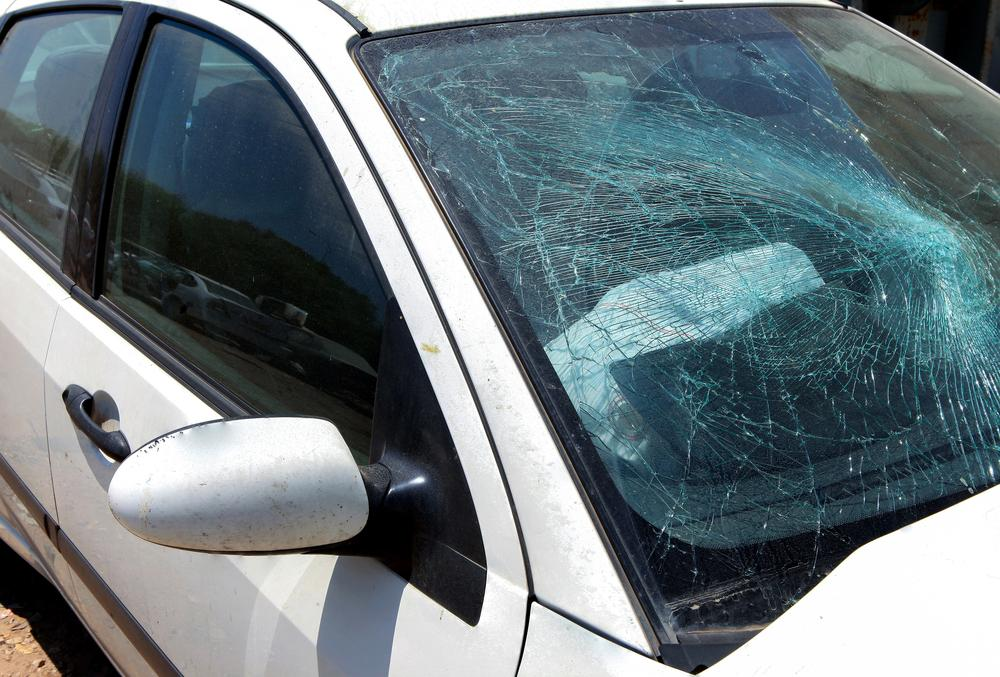glass shatter: (361, 5, 1000, 633)
